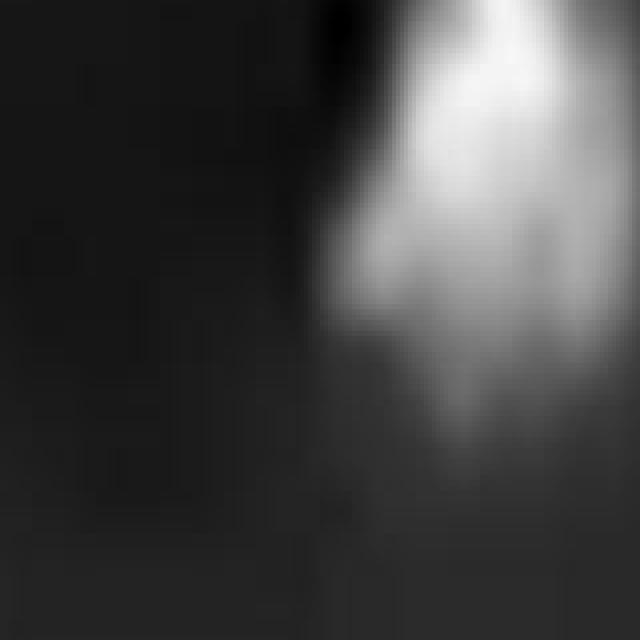person: (305, 1, 640, 486)
